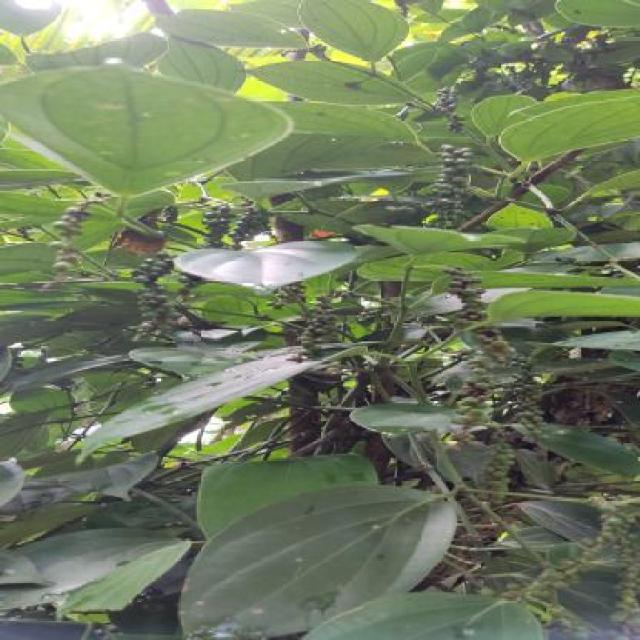UNRIPE: (581, 496, 640, 629), (439, 268, 516, 362), (126, 252, 179, 334), (431, 146, 472, 226), (501, 560, 577, 603), (46, 200, 86, 272), (511, 365, 551, 437), (205, 206, 269, 249), (479, 437, 516, 509), (300, 295, 337, 360), (460, 368, 491, 428), (431, 89, 468, 134), (501, 66, 537, 92), (357, 305, 391, 325)
